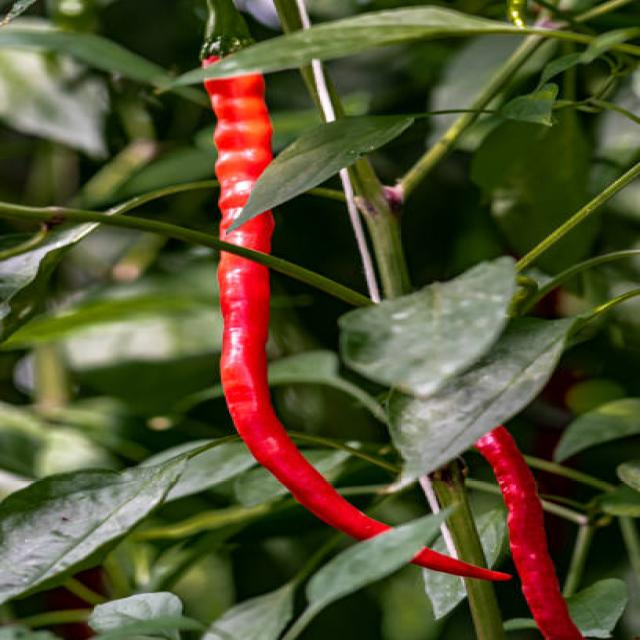Ripe: (188, 28, 515, 589), (468, 420, 591, 640)
